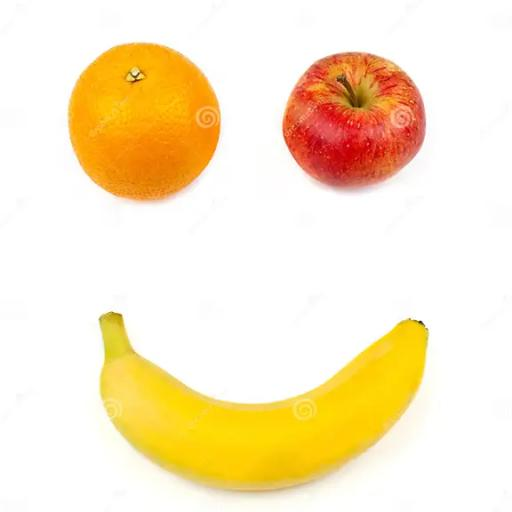apple: (283, 53, 425, 186)
banana: (101, 313, 427, 489)
orange: (70, 44, 220, 199)
